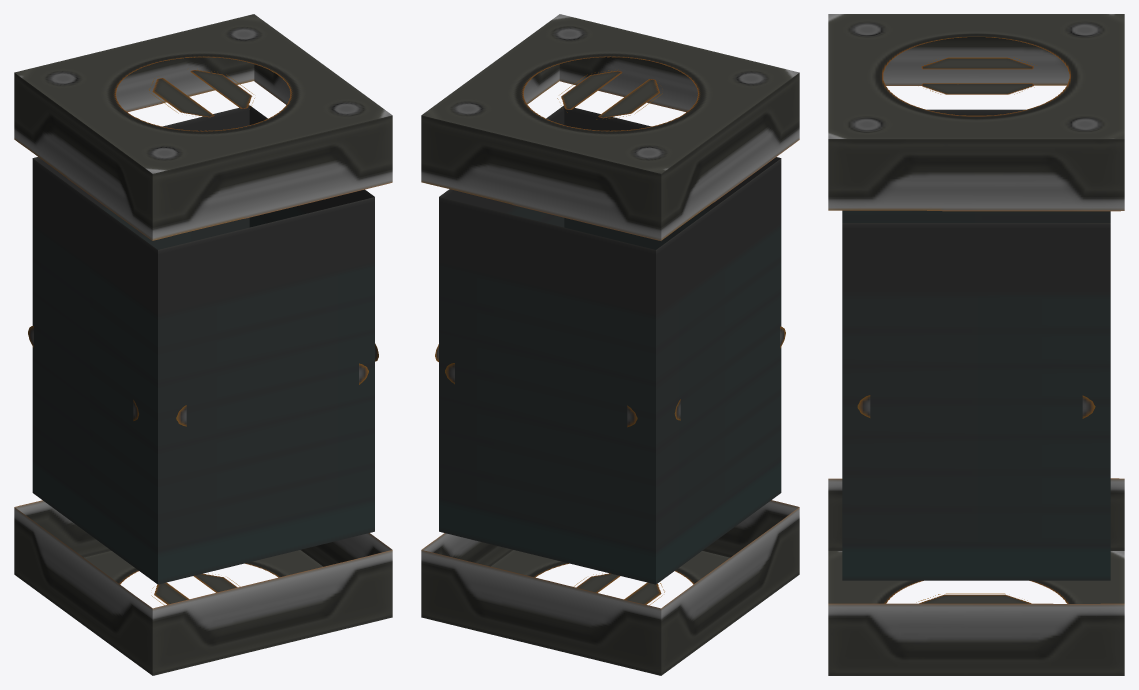
File: obj_interactive_timer_lod1.fbx
The picture shows the model from 3 angles, left to right: view 1: azimuth 30°, elevation 25°; view 2: azimuth 150°, elevation 25°; view 3: azimuth 270°, elevation 25°; orthographic projection. The views are drawn at different scales.
Visible parts, largest first — view 1: polySurface2, polySurface5; view 2: polySurface2, polySurface5; view 3: polySurface2, polySurface5.
Part boxes in pixels (<box>): polySurface2: <box>32,105,374,584</box>; polySurface5: <box>14,14,392,675</box>; polySurface2: <box>439,105,781,584</box>; polySurface5: <box>421,14,799,675</box>; polySurface2: <box>842,109,1110,580</box>; polySurface5: <box>828,14,1124,675</box>.
Bounding box in the file's own units: 1 × 2 × 1.
Materials: 1 (1 with a texture image).
